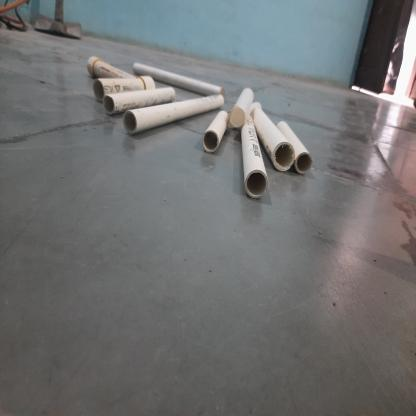PVC: (86, 54, 313, 200)
